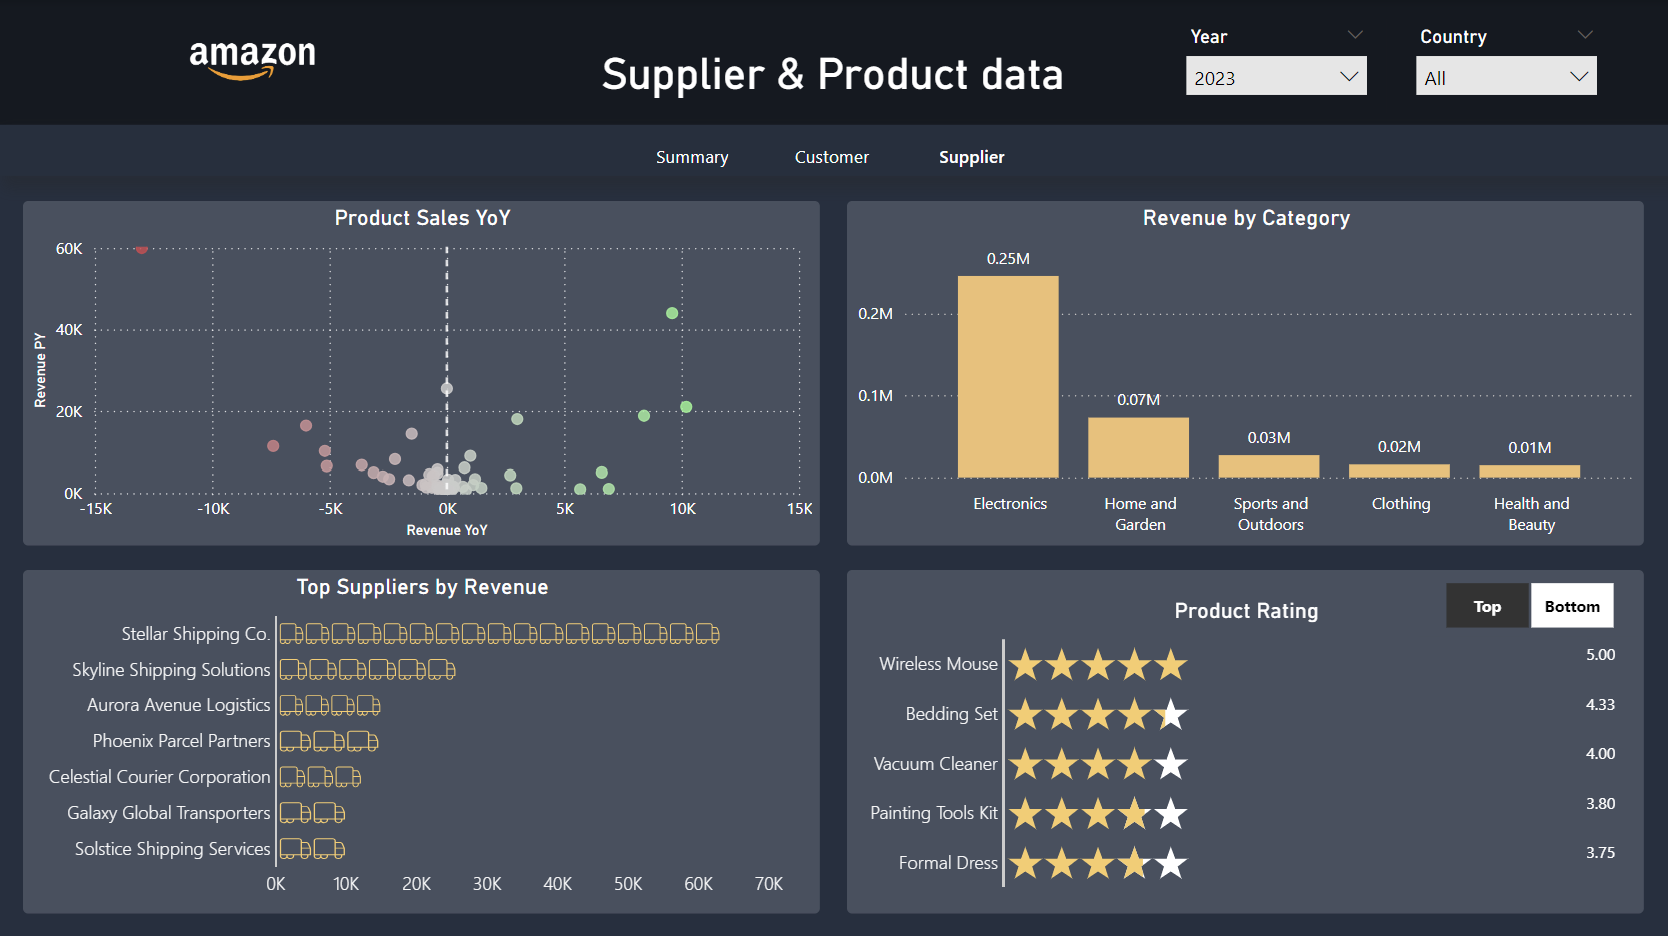

What the dashboard file says about the page in this screenshot:
{"tool":"powerbi","page":{"name":" Supplier","canvas":[1280,720],"ordinal":2},"visuals":[{"type":"shape","box":[0,0,1280,96],"z":0},{"type":"textbox","box":[0,32,1280,64],"z":1000},{"type":"slicer","fields":{"Values":["Date table.Date.Variation.Date Hierarchy.Year"]},"box":[896,16,168,72],"z":2000},{"type":"image","box":[120,0,152,96],"z":3000},{"type":"shape","box":[0,96,1280,39],"z":4000},{"type":"pageNavigator","box":[484,104,312,32],"z":5000},{"type":"slicer","fields":{"Values":["Customer.Country"]},"box":[1072,16,168,72],"z":6000},{"type":"PBI_CV_73744D90_4DC9_4F18_8BA5_EE8FA5C98035","title":"Top Suppliers by Revenue","fields":{"Category":["Supplier.SupplierName"],"Values":["Measures Table.Total Revenue"]},"box":[20,437,610,263],"z":7000},{"type":"PBI_CV_73744D90_4DC9_4F18_8BA5_EE8FA5C98035","title":"Product Rating","fields":{"Category":["Product.ProductName"],"Values":["Measures Table.Ranking"]},"box":[650,437,610,263],"z":8000},{"type":"slicer","fields":{"Values":["TopBottom.Value"]},"box":[1088,440,168,48],"z":9000},{"type":"clusteredColumnChart","title":"Revenue by Category","fields":{"Y":["Measures Table.Total Revenue"],"Category":["Category.CategoryName"]},"box":[650,154,610,263],"z":10000},{"type":"scatterChart","title":"Product Sales YoY","fields":{"X":["Measures Table.Total Revenue - Diff YoY"],"Y":["Measures Table.Total Revenue - PY"],"Category":["Product.ProductName"]},"box":[20,154,610,263],"z":11000}]}

Visuals, with their boxes in screenshot pixels (x1, y1, x2, y2), scaled from the page's 1280x720 canvas onto the 1668x936 screenshot:
shape: rect(0, 0, 1667, 125)
textbox: rect(0, 42, 1667, 125)
slicer - Date table.Date.Variation.Date Hierarchy.Year: rect(1168, 21, 1387, 114)
image: rect(156, 0, 354, 125)
shape: rect(0, 125, 1667, 176)
pageNavigator: rect(631, 135, 1037, 177)
slicer - Customer.Country: rect(1397, 21, 1616, 114)
"Top Suppliers by Revenue" PBI_CV_73744D90_4DC9_4F18_8BA5_EE8FA5C98035: rect(26, 568, 821, 910)
"Product Rating" PBI_CV_73744D90_4DC9_4F18_8BA5_EE8FA5C98035: rect(847, 568, 1642, 910)
slicer - TopBottom.Value: rect(1418, 572, 1637, 634)
"Revenue by Category" clusteredColumnChart: rect(847, 200, 1642, 542)
"Product Sales YoY" scatterChart: rect(26, 200, 821, 542)
